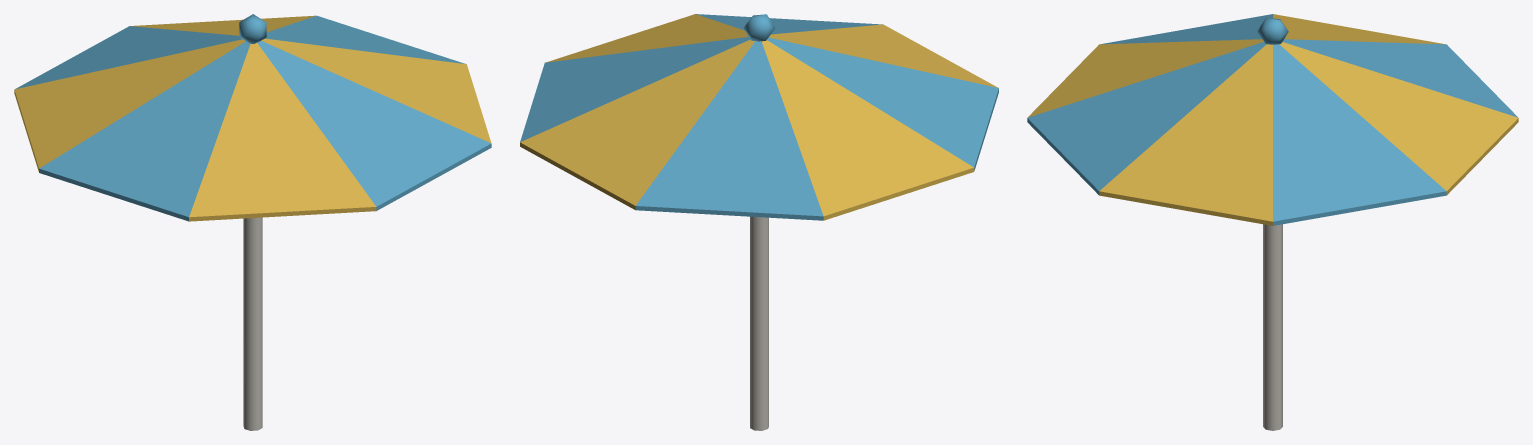
Rendered from beach_umbrella_b.fbx.
3 renders of one model, left to right at view 1: azimuth 30°, elevation 25°; view 2: azimuth 150°, elevation 25°; view 3: azimuth 270°, elevation 25°, orthographic.
Parts seen in each view (by area): view 1: beach_umbrella_b; view 2: beach_umbrella_b; view 3: beach_umbrella_b.
Boxes of the visible parts, left/top/right/bottom form: beach_umbrella_b: left=14, top=14, right=491, bottom=430; beach_umbrella_b: left=520, top=14, right=998, bottom=430; beach_umbrella_b: left=1027, top=14, right=1518, bottom=430.
Size of the model in its own units: 1.24 by 1.13 by 1.24.
